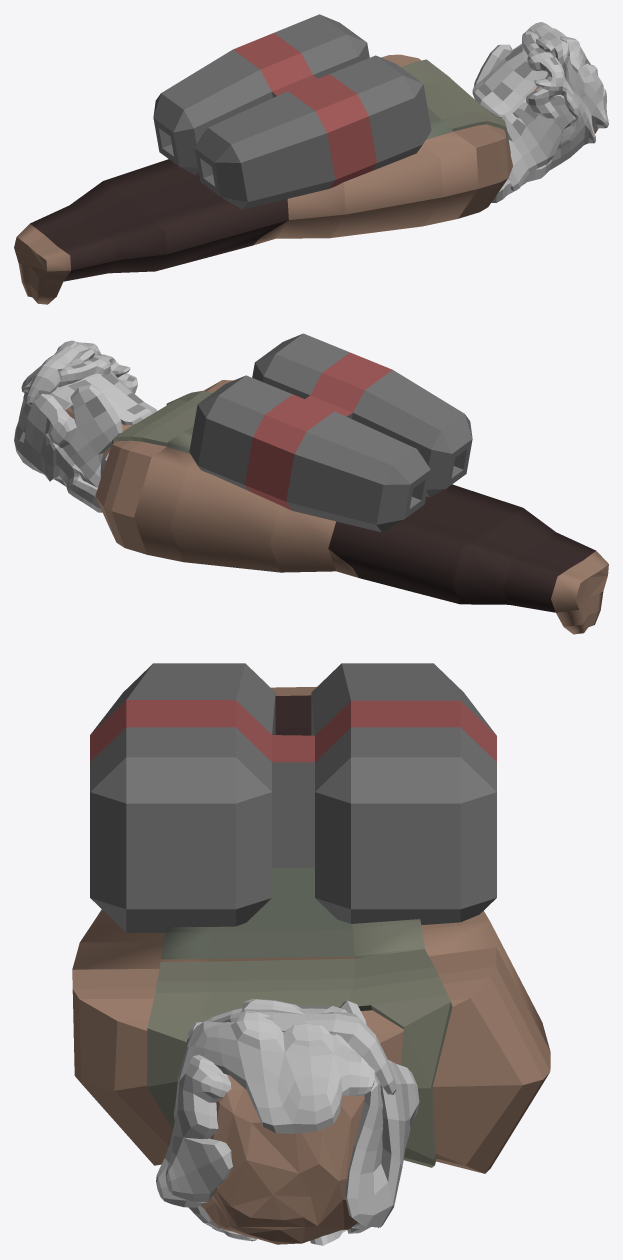
The model's file is FireJetPlayer.fbx.
3 views of the same model, one above another, from view 1: azimuth 30°, elevation 25°; view 2: azimuth 150°, elevation 25°; view 3: azimuth 270°, elevation 25° (orthographic). The views are drawn at different scales.
Parts seen in each view (by area): view 1: Cube.006, Cube.005; view 2: Cube.006, Cube.005; view 3: Cube.006, Cube.005.
Boxes of the visible parts, x1,y1,x2,y2 form: Cube.006: (14, 22, 608, 304); Cube.005: (153, 14, 431, 209); Cube.006: (14, 340, 608, 634); Cube.005: (189, 333, 472, 532); Cube.006: (72, 686, 550, 1245); Cube.005: (90, 663, 496, 932).
Bounding box in the file's own units: 875 × 269 × 324.
